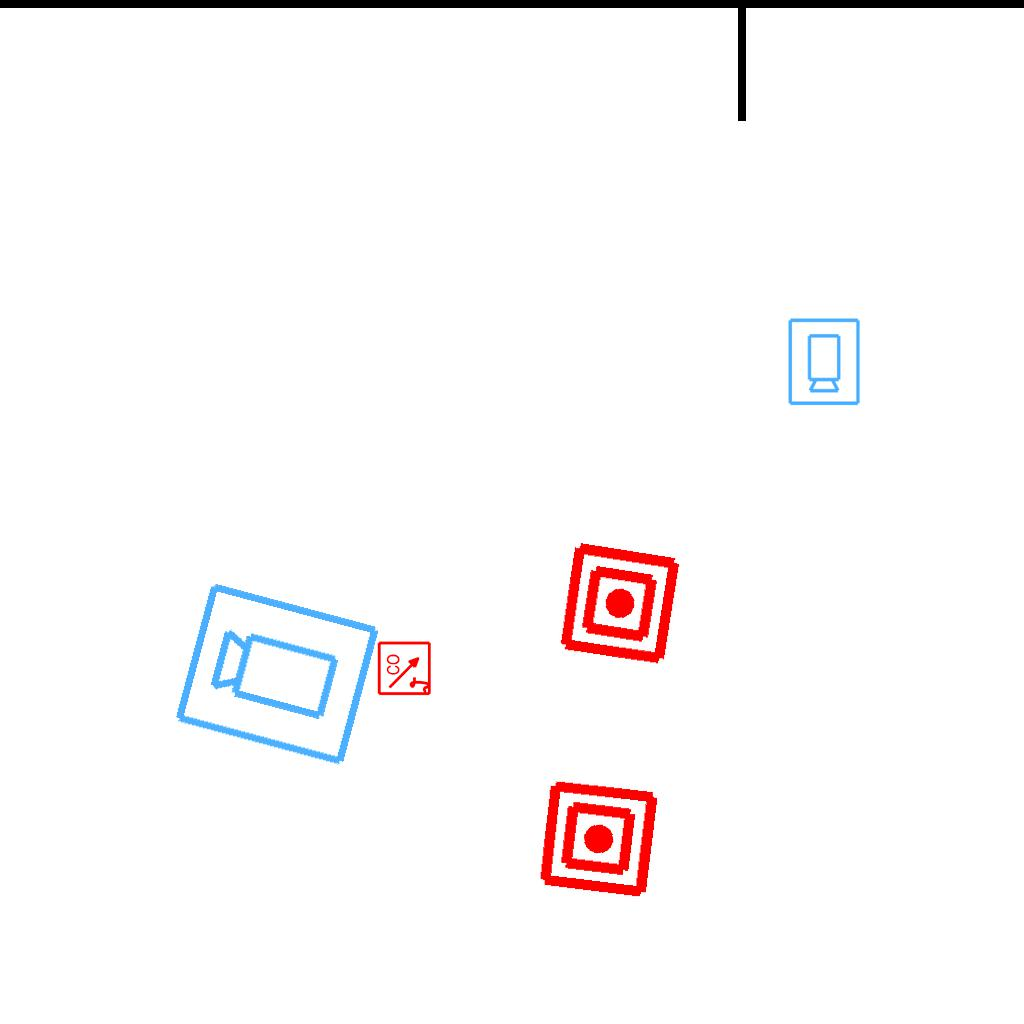KFO_Kamera_mit_Festobjektiv: (170, 575, 386, 771), (785, 316, 862, 407)
NAM-Nichtautomatischer_Melder: (554, 538, 685, 669), (535, 775, 662, 902)
ROA_Rauchmelder_optisch_mit_Signalgeber_(Sockelsirene): (377, 640, 433, 696)
